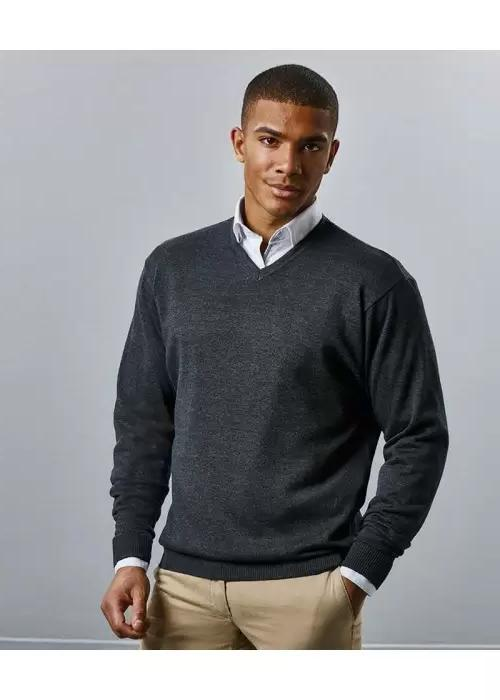sweater: (107, 211, 450, 589)
trousers: (138, 559, 368, 651)
